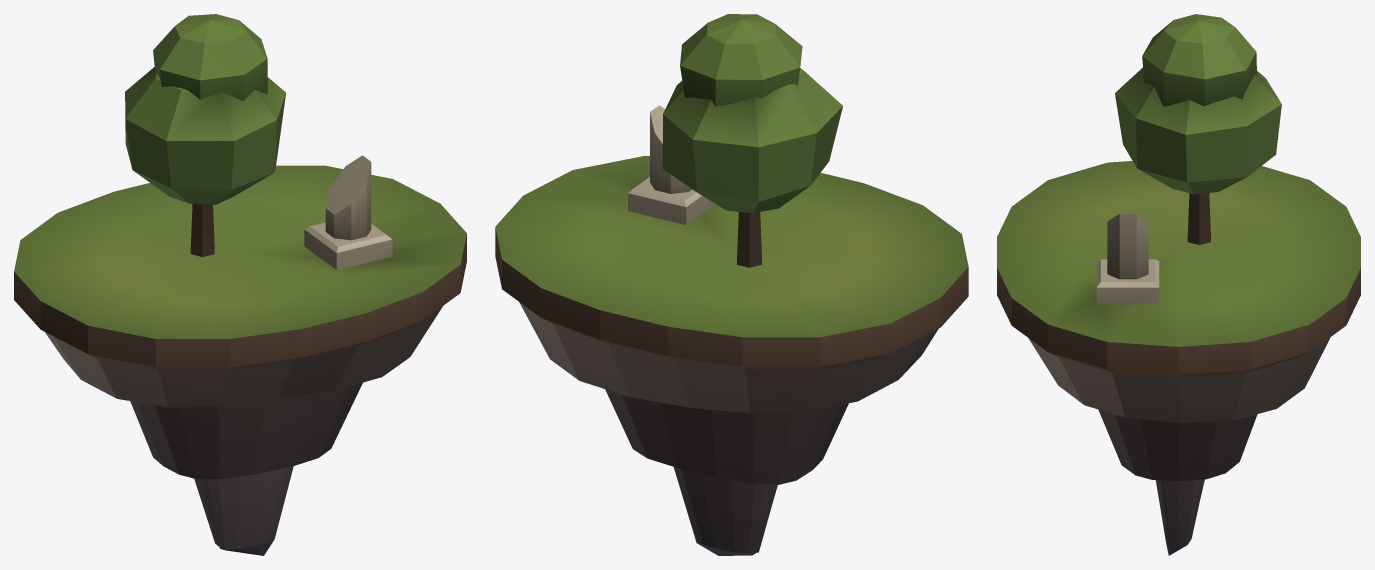
The model's file is ile_lointaine_B.glb.
3 views of the same model, side by side, from view 1: azimuth 30°, elevation 25°; view 2: azimuth 150°, elevation 25°; view 3: azimuth 270°, elevation 25° (orthographic). The views are drawn at different scales.
Visible parts, largest first — view 1: ile_lointaine_B; view 2: ile_lointaine_B; view 3: ile_lointaine_B.
Boxes of the visible parts, x1,y1,x2,y2 form: ile_lointaine_B: (14,14,466,555); ile_lointaine_B: (495,14,968,555); ile_lointaine_B: (997,14,1360,555).
Size of the model in its own units: 4.4 by 5.61 by 3.58.
